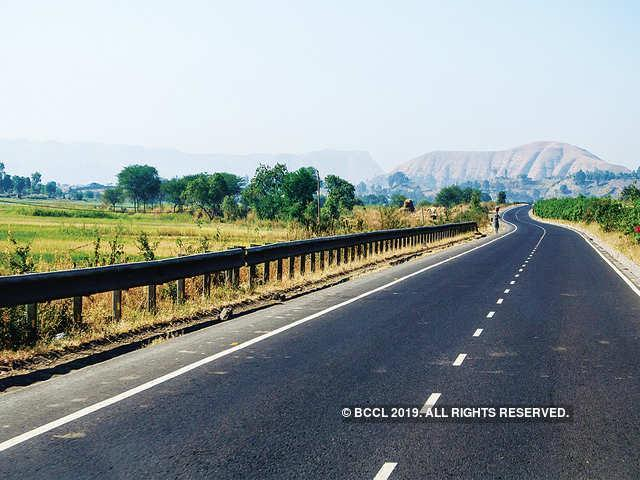language: (336, 403, 580, 425)
